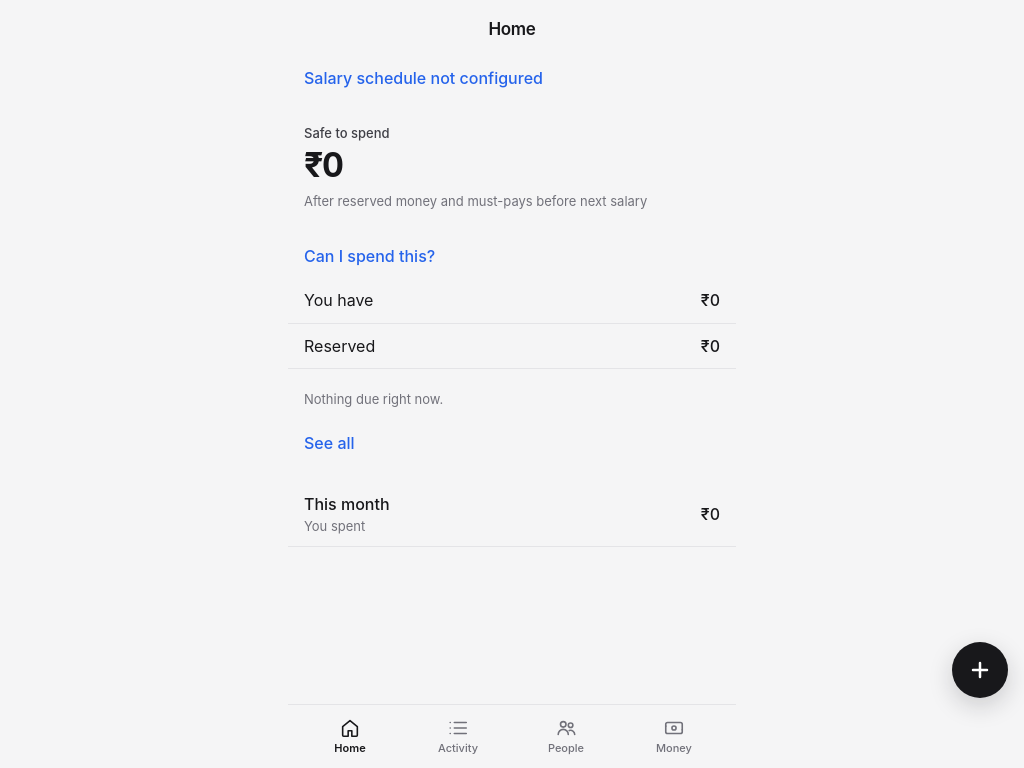
UX Stage B navigation and IA › J — Home salary warning routes to Salary
Expected: the heading "Home" is shown, [488,19,536,39]
What coordinates should you click on to do the following:
click the button "Salary schedule not configured"
I would click on:
 (423, 78)
Its box is [304,56,543,100].
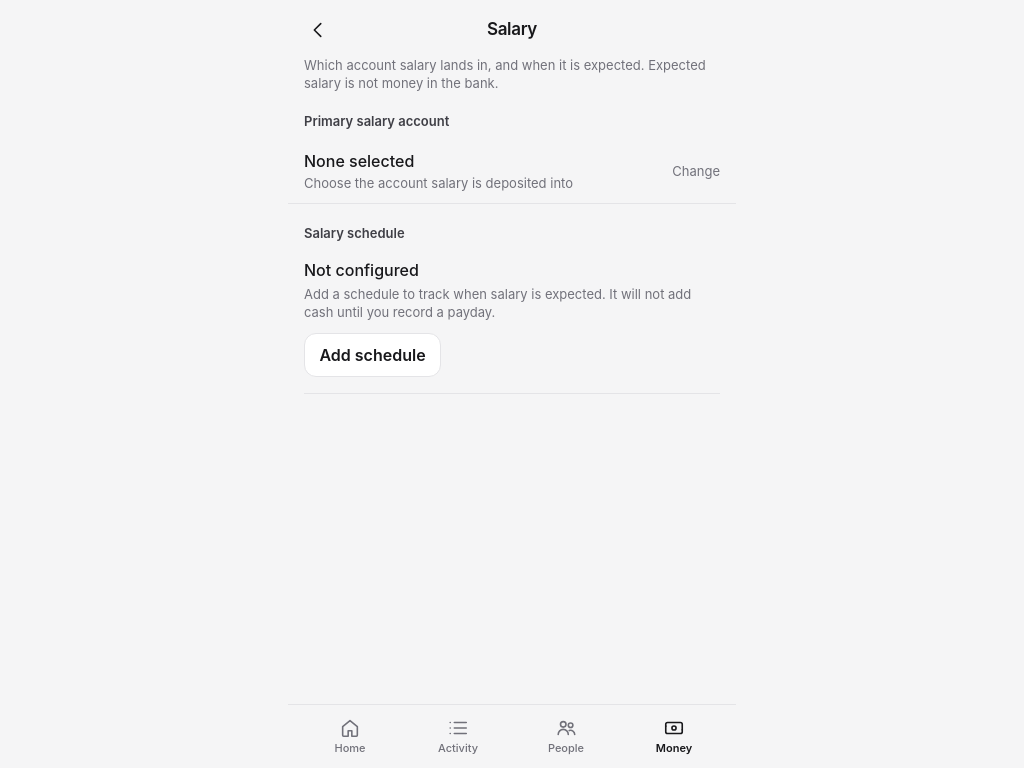
Expected: the text "Not configured" is shown, [304,260,419,280]
Expected: the heading "Salary" is shown, [487,19,537,39]
